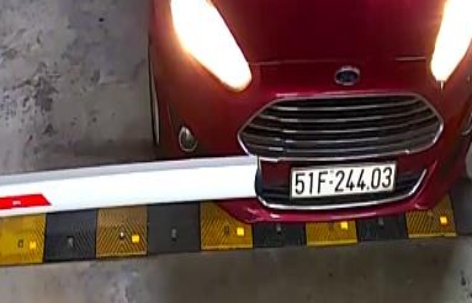plate: (288, 161, 398, 196)
